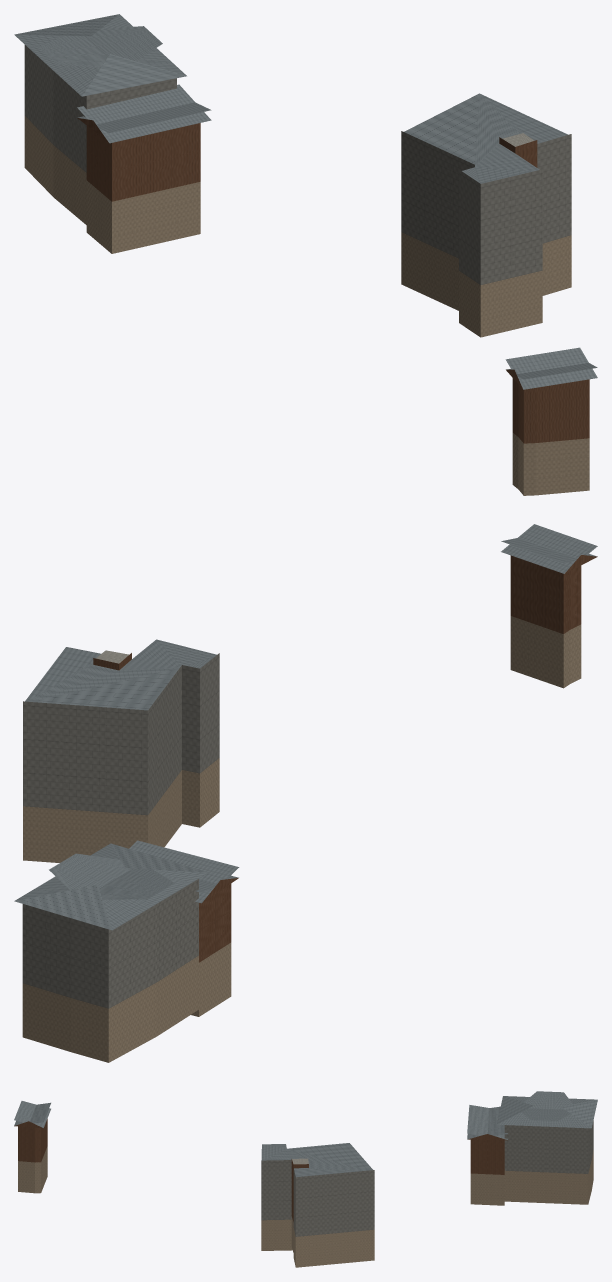
Rendered from bld_c31_-39_462.gltf.
3 renders of one model, top to bottom at view 1: azimuth 30°, elevation 25°; view 2: azimuth 150°, elevation 25°; view 3: azimuth 270°, elevation 25°, orthographic. The views are drawn at different scales.
Visible parts, largest first — view 1: bld_c31_-39_462; view 2: bld_c31_-39_462; view 3: bld_c31_-39_462.
Boxes of the visible parts, x1,y1,x2,y2 form: bld_c31_-39_462: [14, 14, 597, 495]; bld_c31_-39_462: [14, 524, 597, 1062]; bld_c31_-39_462: [14, 1091, 597, 1267].
Bounding box in the file's own units: 32.13 × 15.48 × 87.63.
Materials: 7 (7 with a texture image).
